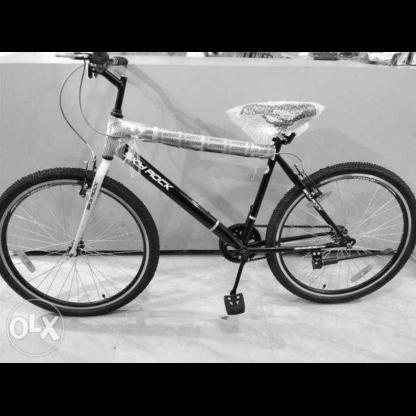Bicycle: (0, 92, 414, 332)
